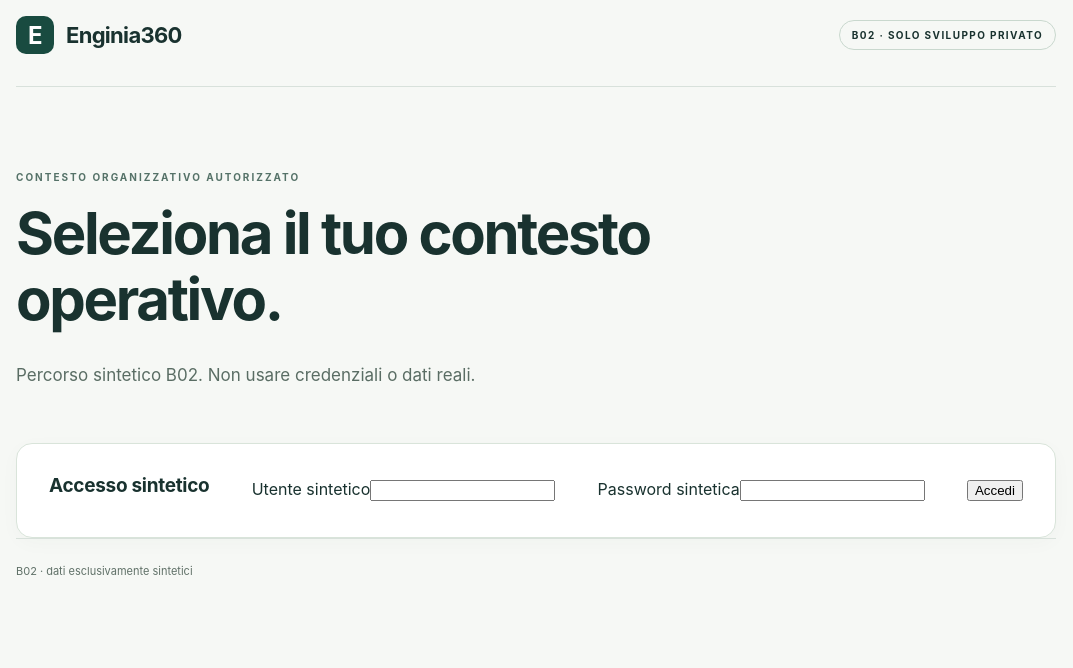
Test: B02 test UI login is backend mediated and lists only returned authorized contexts
The width and height of the screenshot is (1073, 668).
Type "operatore-alfa-sintetico" into the field labelled "Utente sintetico" at (463, 491), box [370,480,555,501]
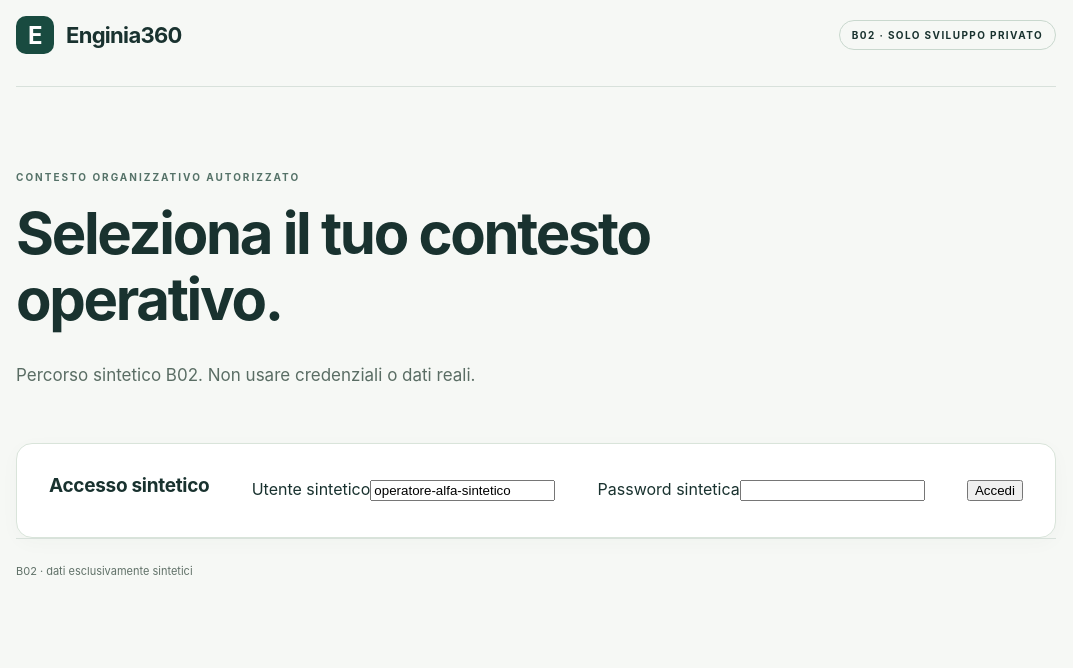
Type "password-effimera" into the password field labelled "Password sintetica" at (832, 491), box [740,480,925,501]
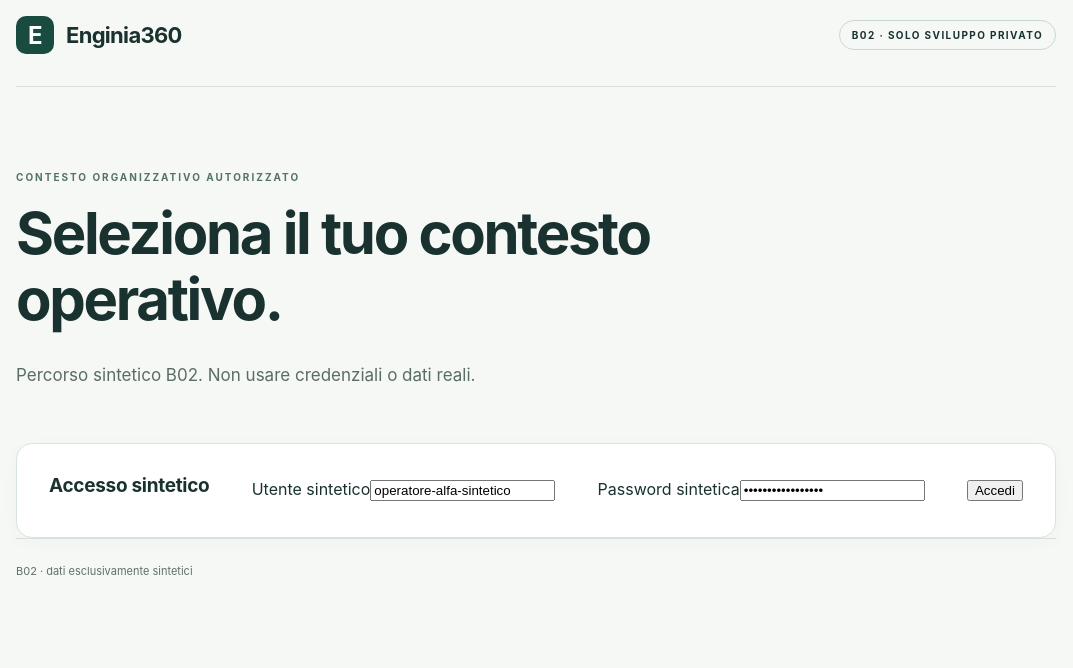
Click the button "Accedi" at (995, 490), box [967,480,1023,501]
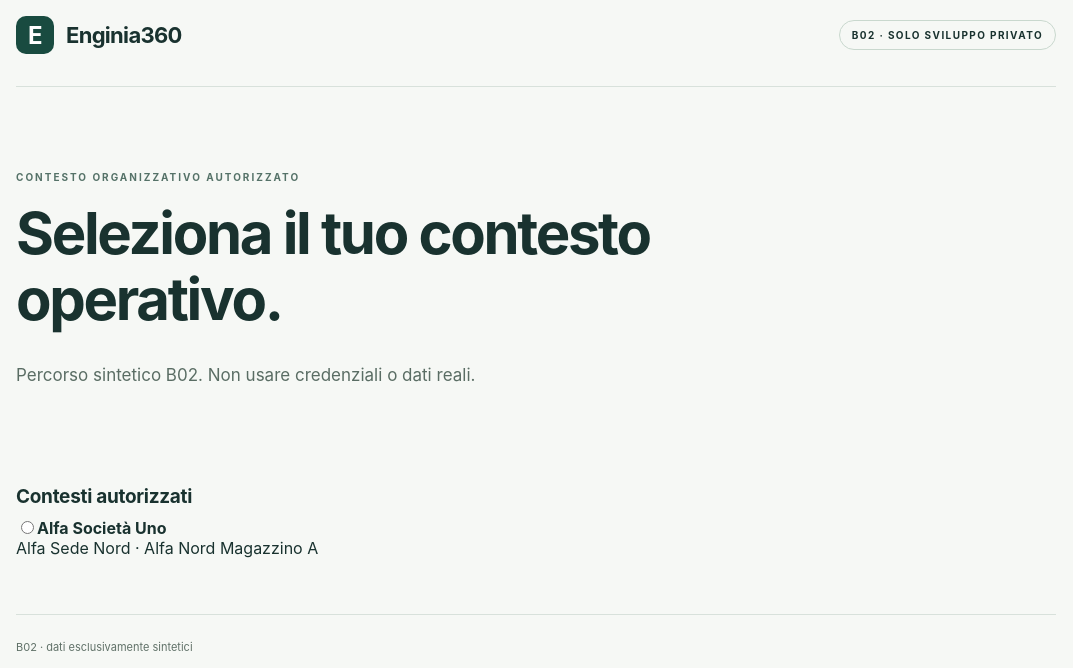
Expected: the text "Alfa Società Uno" is shown, [37,518,166,538]
